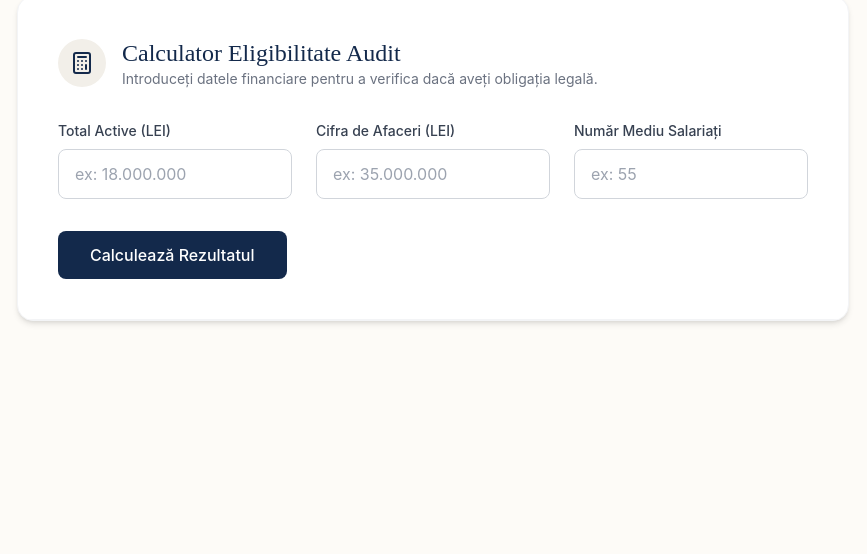
AuditCalculator component › shows required result when 2+ criteria met
This screenshot has width=867, height=554.
Type "20000000" into the field with placeholder "ex: 18.000.000".
click(175, 174); type("20000000")  # box [58,149,292,199]
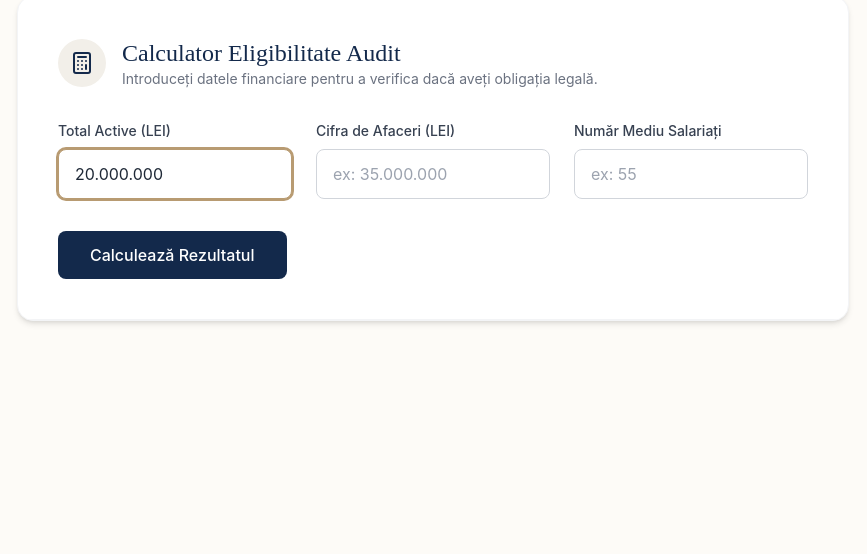
Type "40000000" into the field with placeholder "ex: 35.000.000".
click(433, 174); type("40000000")  # box [316,149,550,199]
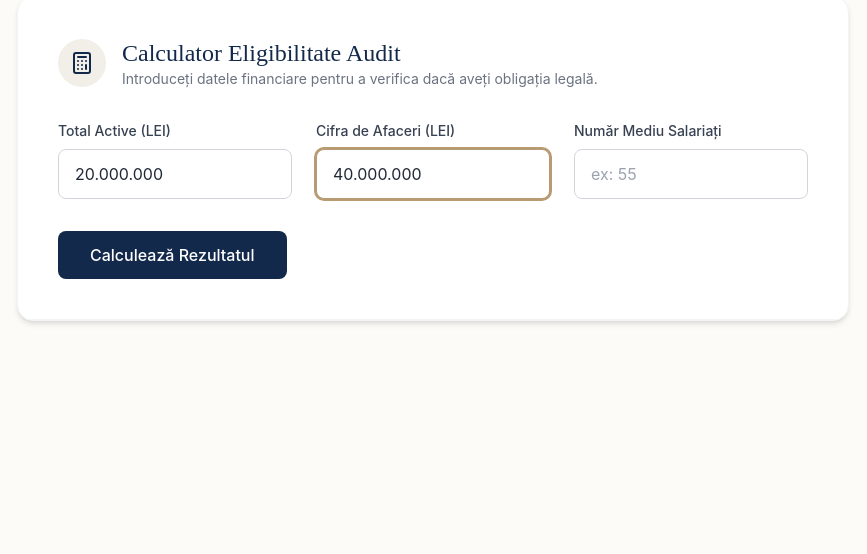
Type "60" into the field with placeholder "ex: 55".
click(691, 174); type("60")  # box [574,149,808,199]
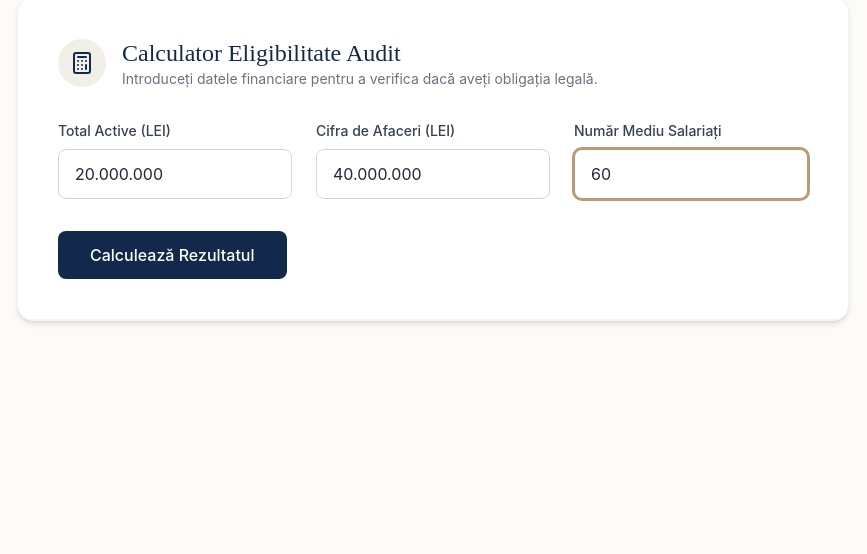
Click the button "Calculează Rezultatul".
click(172, 255)  # box [58,231,286,279]
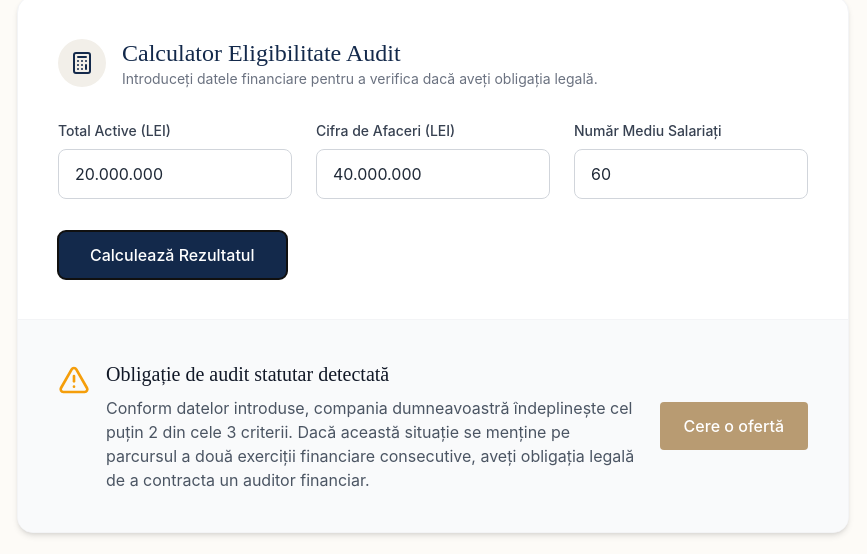
Expected: the heading "Obligație de audit statutar detectată" is shown, [106,363,389,385]
